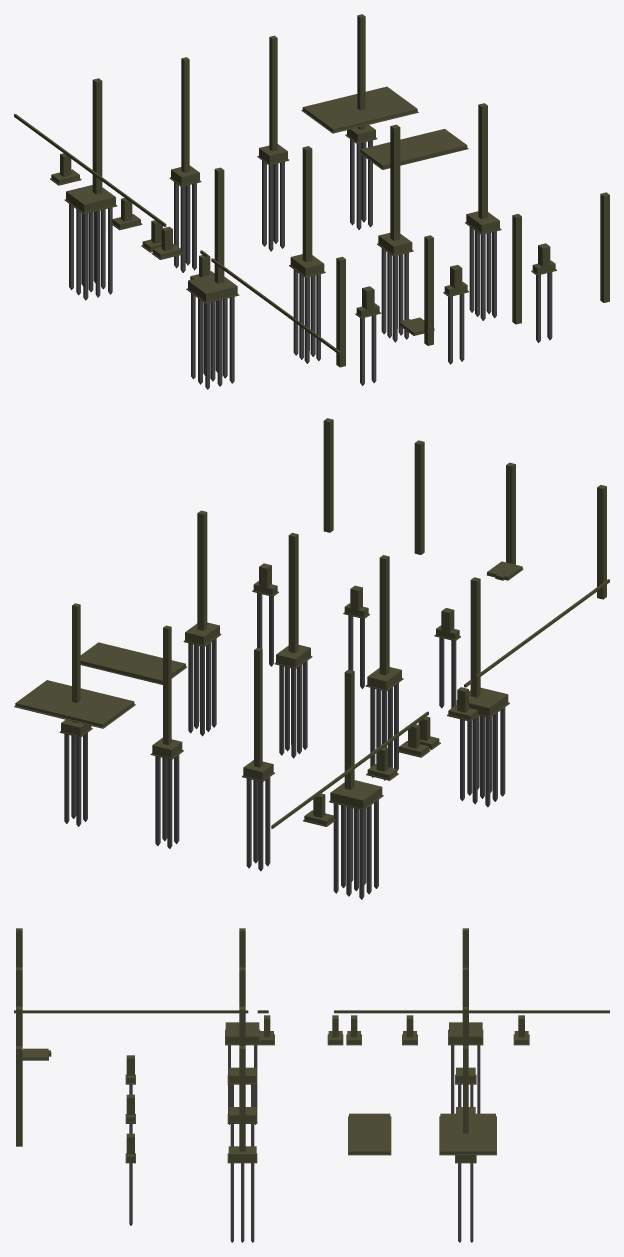
File: GCC-AAV-13220-30.nwd(2).fbx
3 renders of one model, top to bottom at view 1: azimuth 30°, elevation 25°; view 2: azimuth 150°, elevation 25°; view 3: azimuth 270°, elevation 25°, orthographic. The views are drawn at different scales.
Parts seen in each view (by area): view 1: PANEL 1 of SBFRAMEWORK /13220-BD-001/CI/KJ4/FS/FS_014, PANEL 1 of SBFRAMEWORK /13220-BD-001/CI/KJ4/FS/FS_044, PANEL 1 of SBFRAMEWORK /13220-BD-001/CI/KJ2/K/K_046, PANEL 1 of SBFRAMEWORK /13220-BD-001/CI/KJ2/K/K_049, PANEL 1 of SBFRAMEWORK /13220-BD-001/CI/KJ2/K/K_112, PANEL 1 of SBFRAMEWORK /13220-BD-001/CI/KJ2/K/K_115, PANEL 1 of SBFRAMEWORK /13220-BD-001/CI/KJ2/K/K_101, PANEL 1 of SBFRAMEWORK /13220-BD-001/CI/KJ2/K/K_056, PANEL 1 of SBFRAMEWORK /13220-BD-001/CI/KJ2/K/K_015, PANEL 1 of SBFRAMEWORK /13220-BD-001/CI/KJ2/K/K_016, PANEL 1 of SBFRAMEWORK /13220-BD-001/CI/KJ2/K/K_116, PANEL 1 of SBFRAMEWORK /13220-BD-001/CI/KJ2/K/K_026 (+18 smaller); view 2: PANEL 1 of SBFRAMEWORK /13220-BD-001/CI/KJ4/FS/FS_014, PANEL 1 of SBFRAMEWORK /13220-BD-001/CI/KJ4/FS/FS_044, PANEL 1 of SBFRAMEWORK /13220-BD-001/CI/KJ2/K/K_046, PANEL 1 of SBFRAMEWORK /13220-BD-001/CI/KJ2/K/K_101, PANEL 1 of SBFRAMEWORK /13220-BD-001/CI/KJ2/K/K_049, PANEL 1 of SBFRAMEWORK /13220-BD-001/CI/KJ2/K/K_112, PANEL 1 of SBFRAMEWORK /13220-BD-001/CI/KJ2/K/K_115, PANEL 1 of SBFRAMEWORK /13220-BD-001/CI/KJ2/K/K_016, PANEL 1 of SBFRAMEWORK /13220-BD-001/CI/KJ2/K/K_056, PANEL 1 of SBFRAMEWORK /13220-BD-001/CI/KJ2/K/K_116, PANEL 1 of SBFRAMEWORK /13220-BD-001/CI/KJ2/K/K_026, PANEL 1 of SBFRAMEWORK /13220-BD-001/CI/KJ2/K/K_068 (+6 smaller); view 3: PANEL 1 of SBFRAMEWORK /13220-BD-001/CI/KJ4/FS/FS_014, PANEL 1 of SBFRAMEWORK /13220-BD-001/CI/KJ4/FS/FS_044, PANEL 1 of SBFRAMEWORK /13220-BD-001/CI/KJ4/PS/PS_052, PANEL 1 of SBFRAMEWORK /13220-BD-001/CI/KJ4/PS/PS_062, PANEL 1 of SBFRAMEWORK /13220-BD-001/CI/KJ2/K/K_101, PANEL 1 of SBFRAMEWORK /13220-BD-001/CI/KJ2/K/K_056, PANEL 1 of SBFRAMEWORK /13220-BD-001-5203/CI/KJ1/FM/FM_005, PANEL 1 of SBFRAMEWORK /13220-BD-001-5203/CI/KJ1/FM/FM_039, PANEL 1 of SBFRAMEWORK /13220-BD-001/CI/KJ2/K/K_048, PANEL 1 of SBFRAMEWORK /13220-BD-001-5203/CI/KJ1/FM/FM_022.
Part boxes in pixels (<box>): PANEL 1 of SBFRAMEWORK /13220-BD-001/CI/KJ4/FS/FS_014: <box>302,86,417,131</box>; PANEL 1 of SBFRAMEWORK /13220-BD-001/CI/KJ4/FS/FS_044: <box>360,129,467,168</box>; PANEL 1 of SBFRAMEWORK /13220-BD-001/CI/KJ2/K/K_046: <box>390,124,400,240</box>; PANEL 1 of SBFRAMEWORK /13220-BD-001/CI/KJ2/K/K_049: <box>302,146,312,262</box>; PANEL 1 of SBFRAMEWORK /13220-BD-001/CI/KJ2/K/K_112: <box>214,167,224,283</box>; PANEL 1 of SBFRAMEWORK /13220-BD-001/CI/KJ2/K/K_115: <box>92,78,102,194</box>; PANEL 1 of SBFRAMEWORK /13220-BD-001/CI/KJ2/K/K_101: <box>478,103,487,219</box>; PANEL 1 of SBFRAMEWORK /13220-BD-001/CI/KJ2/K/K_056: <box>600,192,609,302</box>; PANEL 1 of SBFRAMEWORK /13220-BD-001/CI/KJ2/K/K_015: <box>424,235,433,345</box>; PANEL 1 of SBFRAMEWORK /13220-BD-001/CI/KJ2/K/K_016: <box>512,214,521,324</box>; PANEL 1 of SBFRAMEWORK /13220-BD-001/CI/KJ2/K/K_116: <box>336,256,345,367</box>; PANEL 1 of SBFRAMEWORK /13220-BD-001/CI/KJ2/K/K_026: <box>269,35,277,151</box>; PANEL 1 of SBFRAMEWORK /13220-BD-001/CI/KJ4/FS/FS_014: <box>15,680,134,727</box>; PANEL 1 of SBFRAMEWORK /13220-BD-001/CI/KJ4/FS/FS_044: <box>80,642,185,683</box>; PANEL 1 of SBFRAMEWORK /13220-BD-001/CI/KJ2/K/K_046: <box>288,532,298,653</box>; PANEL 1 of SBFRAMEWORK /13220-BD-001/CI/KJ2/K/K_101: <box>197,510,207,630</box>; PANEL 1 of SBFRAMEWORK /13220-BD-001/CI/KJ2/K/K_049: <box>379,555,389,675</box>; PANEL 1 of SBFRAMEWORK /13220-BD-001/CI/KJ2/K/K_112: <box>470,577,480,697</box>; PANEL 1 of SBFRAMEWORK /13220-BD-001/CI/KJ2/K/K_115: <box>344,669,354,789</box>; PANEL 1 of SBFRAMEWORK /13220-BD-001/CI/KJ2/K/K_016: <box>414,440,424,554</box>; PANEL 1 of SBFRAMEWORK /13220-BD-001/CI/KJ2/K/K_056: <box>323,418,333,532</box>; PANEL 1 of SBFRAMEWORK /13220-BD-001/CI/KJ2/K/K_116: <box>597,485,606,599</box>; PANEL 1 of SBFRAMEWORK /13220-BD-001/CI/KJ2/K/K_026: <box>163,625,171,745</box>; PANEL 1 of SBFRAMEWORK /13220-BD-001/CI/KJ2/K/K_068: <box>254,647,262,767</box>; PANEL 1 of SBFRAMEWORK /13220-BD-001/CI/KJ4/FS/FS_014: <box>440,1113,495,1153</box>; PANEL 1 of SBFRAMEWORK /13220-BD-001/CI/KJ4/FS/FS_044: <box>349,1113,390,1153</box>; PANEL 1 of SBFRAMEWORK /13220-BD-001/CI/KJ4/PS/PS_052: <box>334,1010,609,1013</box>; PANEL 1 of SBFRAMEWORK /13220-BD-001/CI/KJ4/PS/PS_062: <box>14,1010,248,1013</box>; PANEL 1 of SBFRAMEWORK /13220-BD-001/CI/KJ2/K/K_101: <box>239,1046,245,1151</box>; PANEL 1 of SBFRAMEWORK /13220-BD-001/CI/KJ2/K/K_056: <box>16,1046,22,1146</box>; PANEL 1 of SBFRAMEWORK /13220-BD-001-5203/CI/KJ1/FM/FM_005: <box>225,1022,259,1043</box>; PANEL 1 of SBFRAMEWORK /13220-BD-001-5203/CI/KJ1/FM/FM_039: <box>449,1022,482,1043</box>; PANEL 1 of SBFRAMEWORK /13220-BD-001/CI/KJ2/K/K_048: <box>463,1046,468,1133</box>; PANEL 1 of SBFRAMEWORK /13220-BD-001-5203/CI/KJ1/FM/FM_022: <box>228,1146,256,1161</box>.
Size of the model in its own units: 1478 by 900 by 2522.
